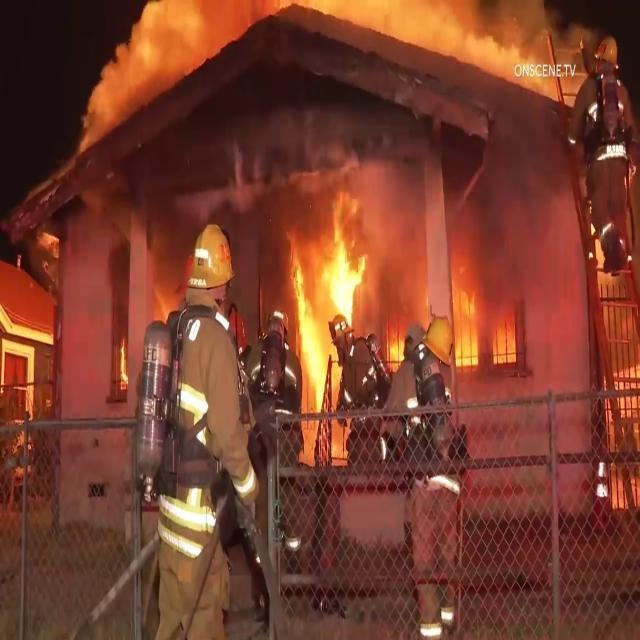Fire: (293, 238, 327, 409), (326, 232, 376, 344), (97, 315, 133, 399), (462, 284, 487, 382)
Smoke: (150, 10, 464, 179)
